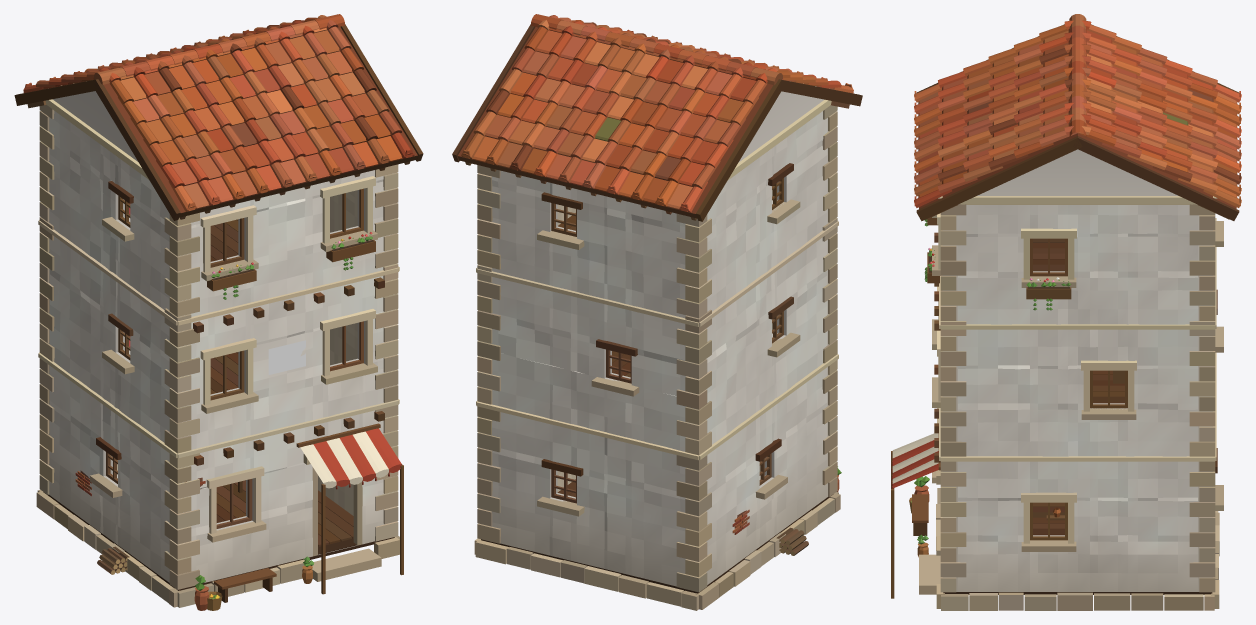
File: pleb_0_3.glb
3 views of the same model, side by side, from view 1: azimuth 30°, elevation 25°; view 2: azimuth 150°, elevation 25°; view 3: azimuth 270°, elevation 25° (orthographic).
Parts seen in each view (by area): view 1: House, Walls, Rooms, Notice; view 2: Walls, House, Rooms; view 3: House, Walls, Rooms.
Boxes of the visible parts, x1=… form: House: x1=14, y1=14, x2=423, y2=610; Walls: x1=48, y1=91, x2=395, y2=582; Rooms: x1=117, y1=190, x2=357, y2=546; Notice: x1=268, y1=340, x2=305, y2=374; Walls: x1=480, y1=91, x2=828, y2=586; House: x1=452, y1=14, x2=862, y2=610; Rooms: x1=557, y1=186, x2=772, y2=497; House: x1=891, y1=14, x2=1241, y2=610; Walls: x1=943, y1=149, x2=1212, y2=591; Rooms: x1=1033, y1=238, x2=1124, y2=535.
Size of the model in its own units: 4.21 by 7.68 by 5.06.
Materials: 7 (7 with a texture image).
